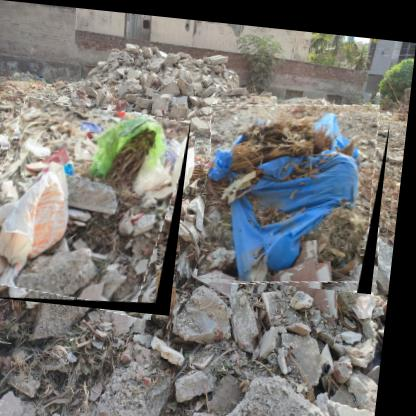Garbage: (1, 100, 195, 314), (204, 88, 395, 288)
